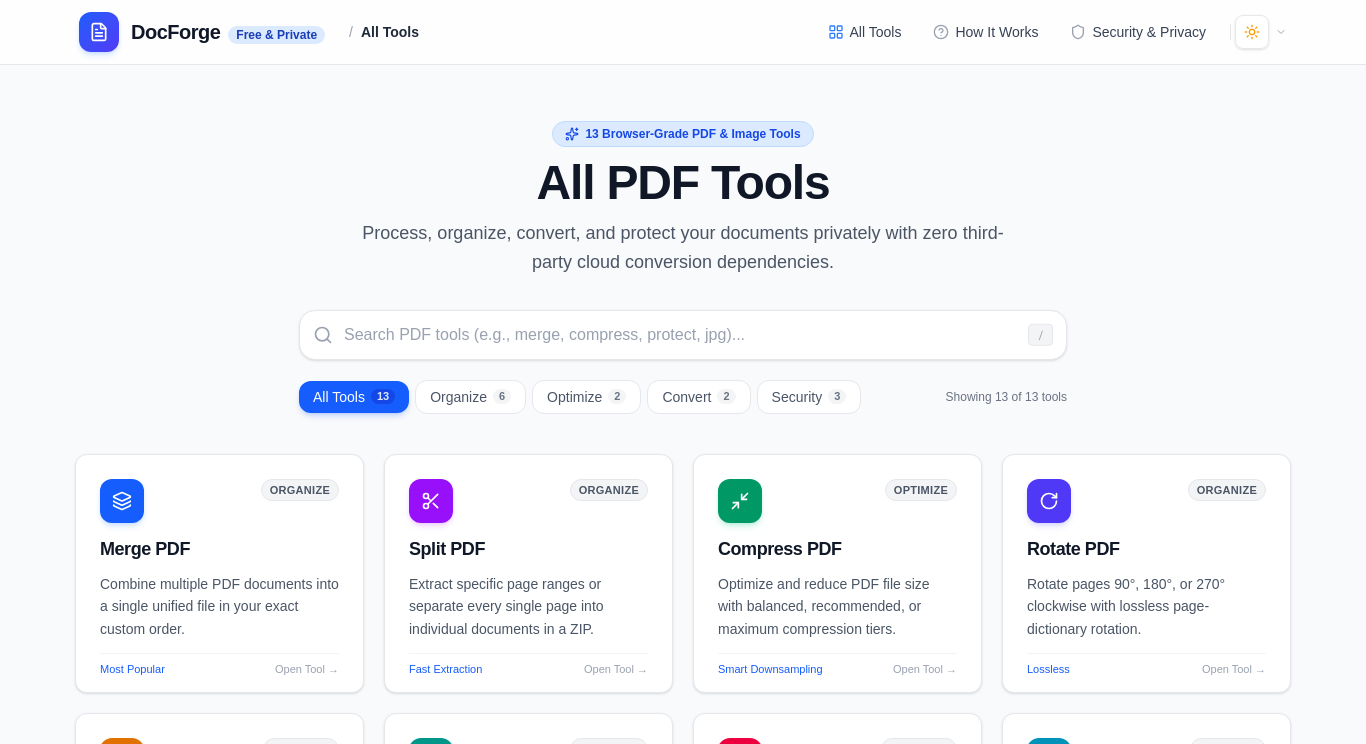
it: All Tools Directory Page (/tools) › filters tools by text search input
In the field with test id "tool-search-input": {"x": 683, "y": 334} [299,310,1067,360], type "merge"
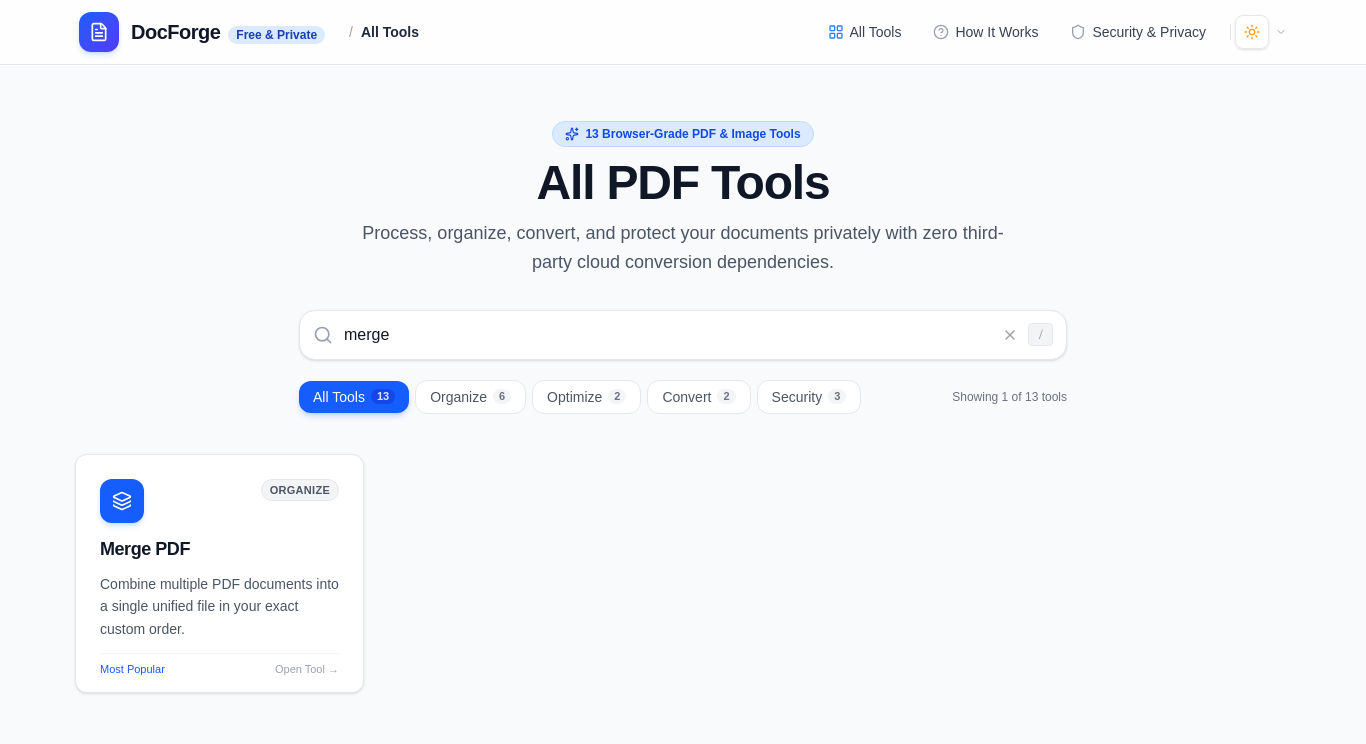
Expected: the link with test id "tool-card-merge-pdf" is shown, [75,454,364,693]
Expected: the link with test id "tool-card-compress-pdf" is gone
Expected: the link with test id "tool-card-split-pdf" is gone
